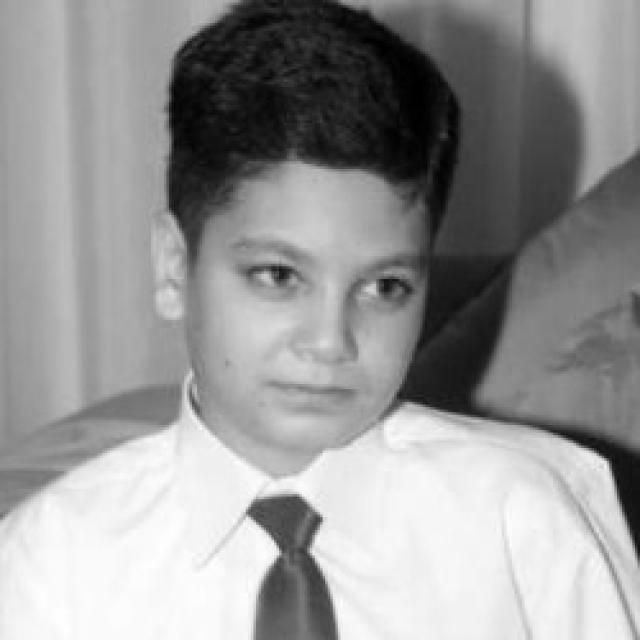real: (186, 155, 429, 450), (240, 242, 411, 320)
